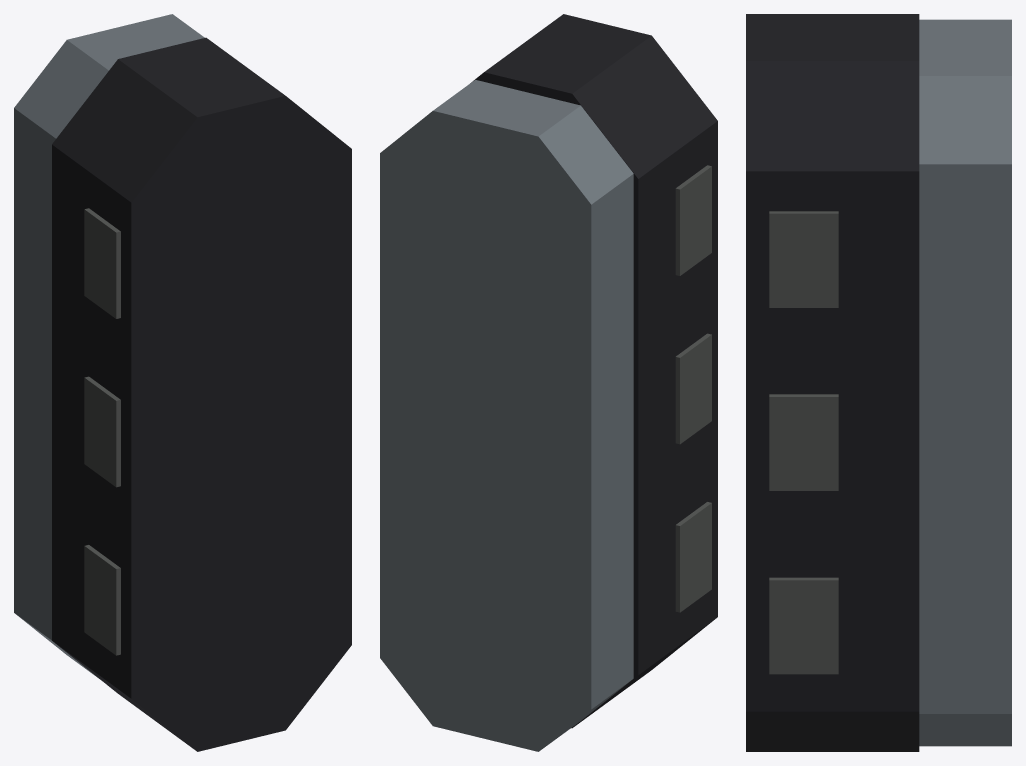
Rendered from stock_pad.glb.
The picture shows the model from 3 angles, left to right: view 1: azimuth 30°, elevation 25°; view 2: azimuth 150°, elevation 25°; view 3: azimuth 270°, elevation 25°; orthographic projection. The views are drawn at different scales.
Visible parts, largest first — view 1: stock_pad; view 2: stock_pad; view 3: stock_pad.
Boxes of the visible parts, x1,y1,x2,y2 form: stock_pad: (14, 14, 351, 751); stock_pad: (380, 14, 717, 751); stock_pad: (746, 14, 1011, 751).
Size of the model in its own units: 0.05 by 0.132 by 0.046.
Materials: 1 (1 with a texture image).
